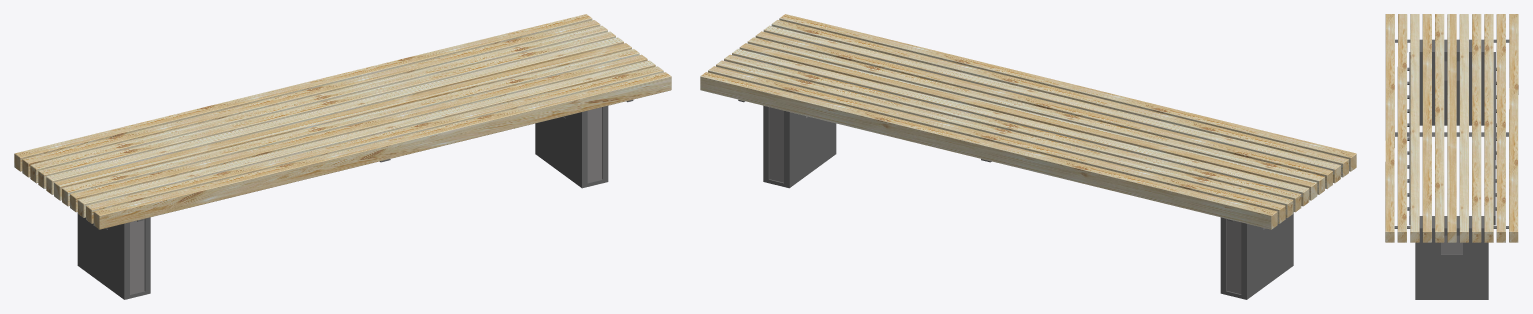
Rendered from littlebank.obj.
3 views of the same model, side by side, from view 1: azimuth 30°, elevation 25°; view 2: azimuth 150°, elevation 25°; view 3: azimuth 270°, elevation 25° (orthographic). The views are drawn at different scales.
Visible parts, largest first — view 1: maderas_banco.001_Cub, bancoluz.001_Cube.001, bancoluz.001_Cube; view 2: maderas_banco.001_Cub, bancoluz.001_Cube.001, bancoluz.001_Cube; view 3: maderas_banco.001_Cub, bancoluz.001_Cube.001, bancoluz.001_Cube.
Boxes of the visible parts, <box> form: maderas_banco.001_Cub: <box>14,14,671,229</box>; bancoluz.001_Cube.001: <box>77,99,633,299</box>; bancoluz.001_Cube: <box>106,107,602,294</box>; maderas_banco.001_Cub: <box>700,14,1356,229</box>; bancoluz.001_Cube.001: <box>738,99,1293,299</box>; bancoluz.001_Cube: <box>769,107,1264,294</box>; maderas_banco.001_Cub: <box>1385,14,1518,242</box>; bancoluz.001_Cube.001: <box>1394,39,1509,299</box>; bancoluz.001_Cube: <box>1441,61,1462,254</box>.
Bounding box in the file's own units: 2.53 × 0.4611 × 0.6535.
3 materials, 1 textured.
